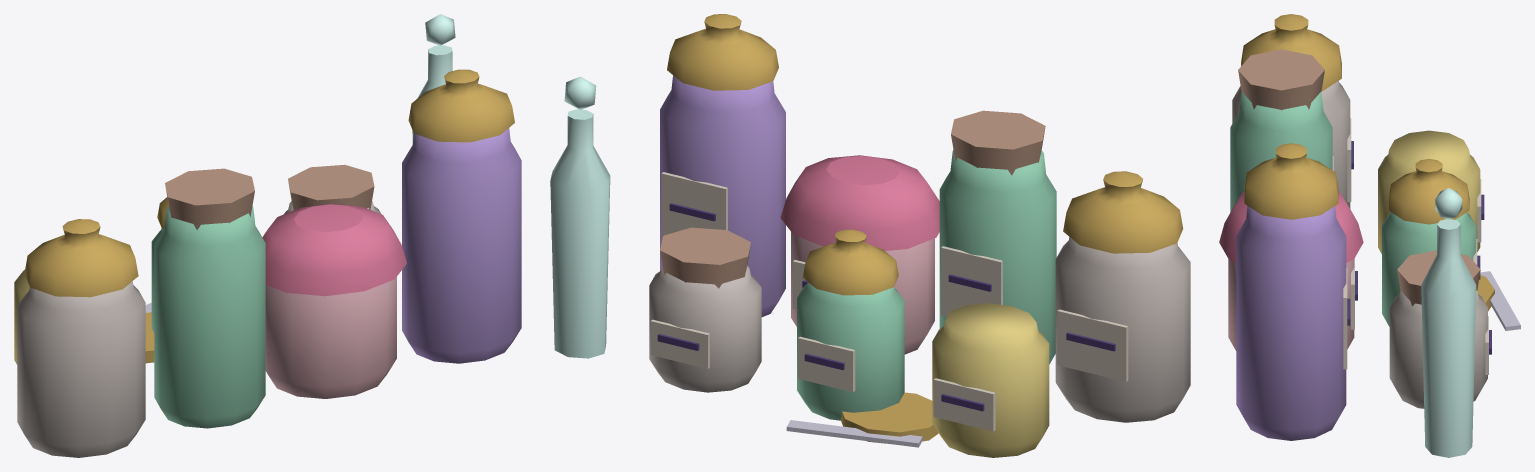
The model's file is salve_jars.glb.
The picture shows the model from 3 angles, left to right: view 1: azimuth 30°, elevation 25°; view 2: azimuth 150°, elevation 25°; view 3: azimuth 270°, elevation 25°; orthographic projection. The views are drawn at different scales.
Visible parts, largest first — view 1: salve_jars; view 2: salve_jars; view 3: salve_jars.
Part boxes in pixels (bbox=[...]): salve_jars: bbox=[14, 14, 521, 457]; salve_jars: bbox=[550, 14, 1190, 457]; salve_jars: bbox=[1219, 14, 1520, 457].
Size of what is drawn, in the model's own units: 0.3 by 0.15 by 0.15.
